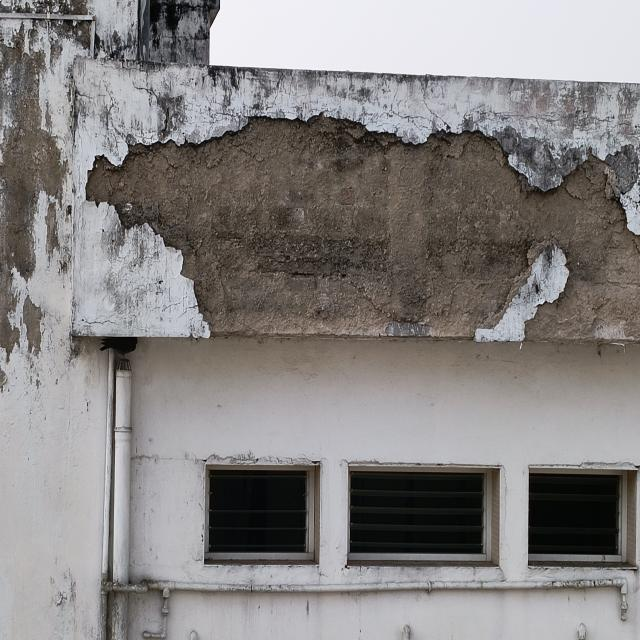Paint Peeling: (0, 0, 640, 364)
